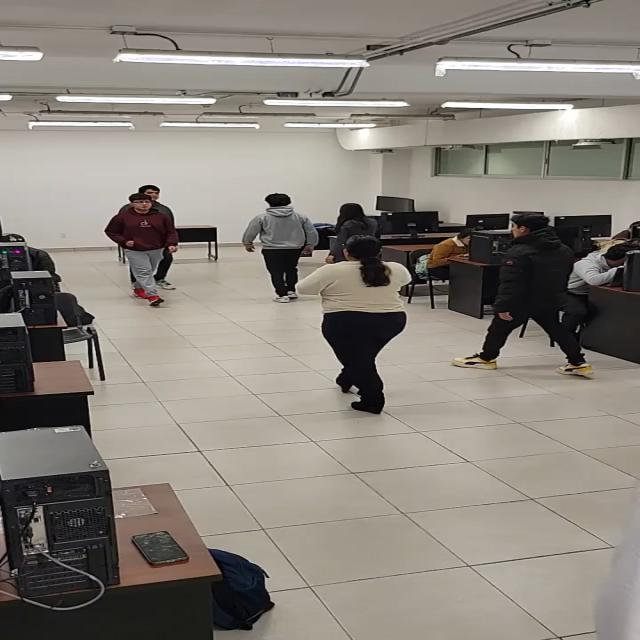Persona: (292, 235, 406, 418), (498, 212, 579, 364), (120, 193, 186, 307), (257, 192, 303, 289), (336, 202, 381, 241), (139, 187, 178, 202)
